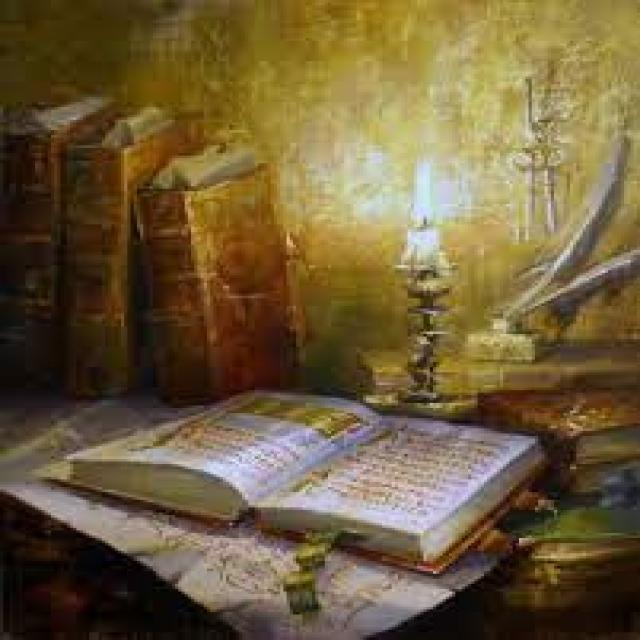book: (40, 364, 555, 568)
